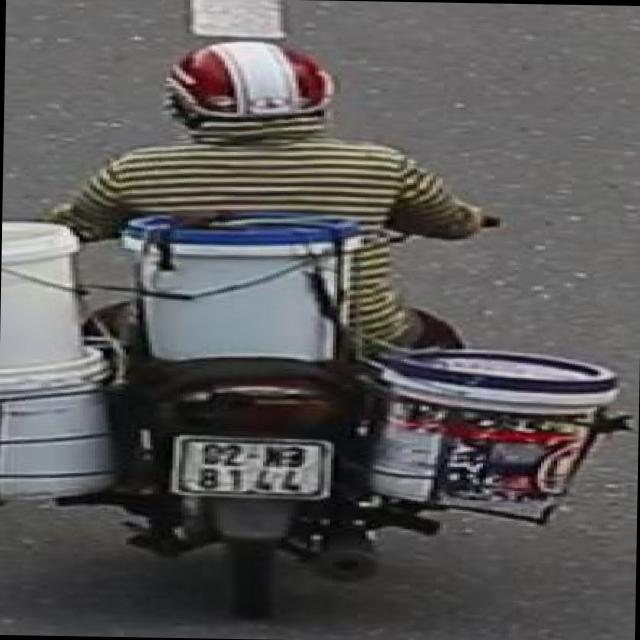LP: (168, 430, 344, 506)
helmet: (158, 38, 350, 134)
